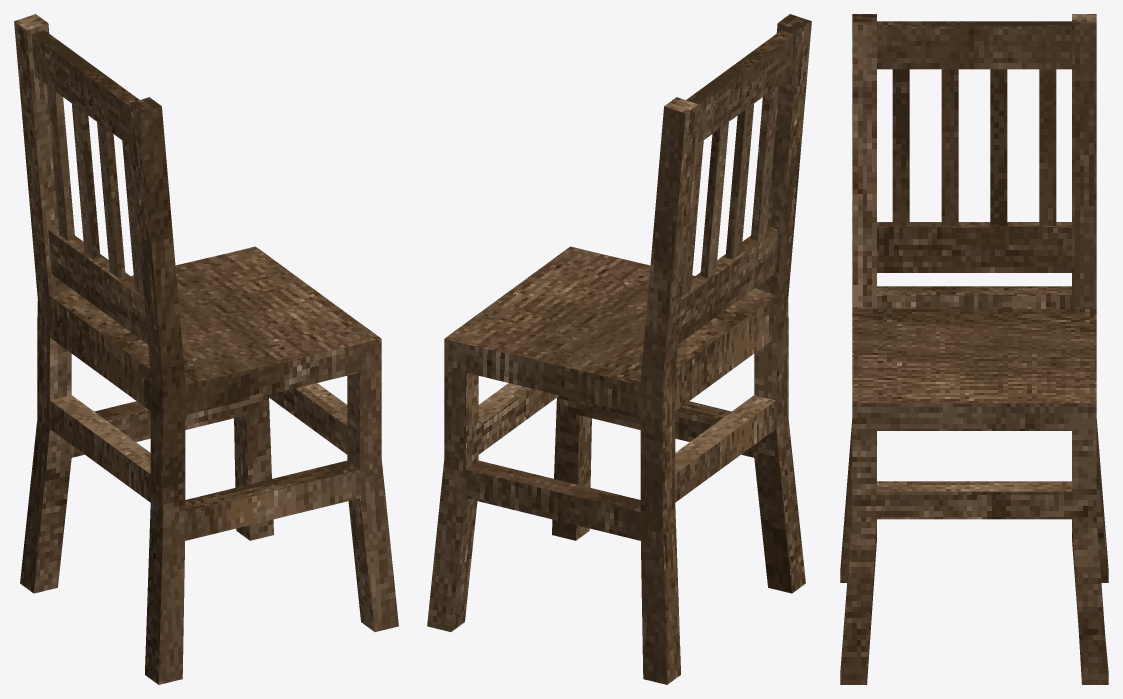
The model's file is Chair.glb.
3 renders of one model, left to right at view 1: azimuth 30°, elevation 25°; view 2: azimuth 150°, elevation 25°; view 3: azimuth 270°, elevation 25°, orthographic. The views are drawn at different scales.
Visible parts, largest first — view 1: Chair; view 2: Chair; view 3: Chair.
Boxes of the visible parts, bbox=[...] form: Chair: bbox=[14, 14, 398, 684]; Chair: bbox=[427, 14, 811, 684]; Chair: bbox=[840, 14, 1108, 684].
Bounding box in the file's own units: 0.4625 × 1 × 0.44.
1 material, 1 textured.
